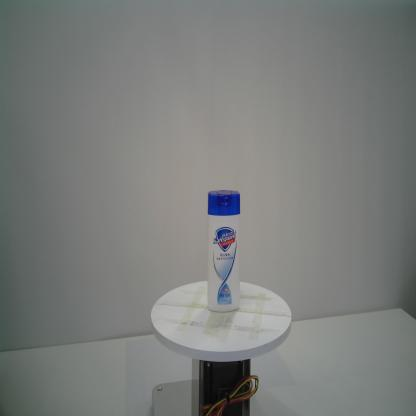Personal Hygiene: (206, 188, 242, 313)
